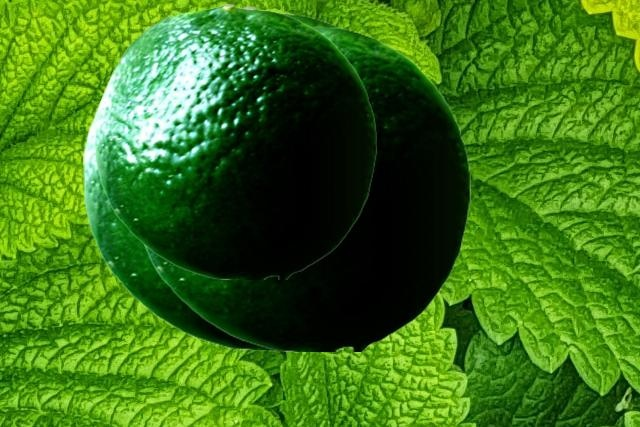calamansi: (140, 22, 469, 350), (83, 5, 344, 348), (95, 3, 375, 278)
